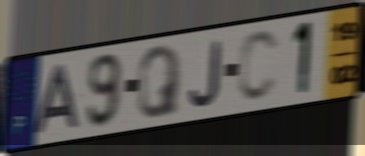1: (289, 18, 314, 100)
9: (85, 51, 124, 130)
A: (32, 61, 82, 136)
C: (235, 28, 281, 105)
J: (187, 38, 224, 109)
Q: (136, 42, 184, 122)
